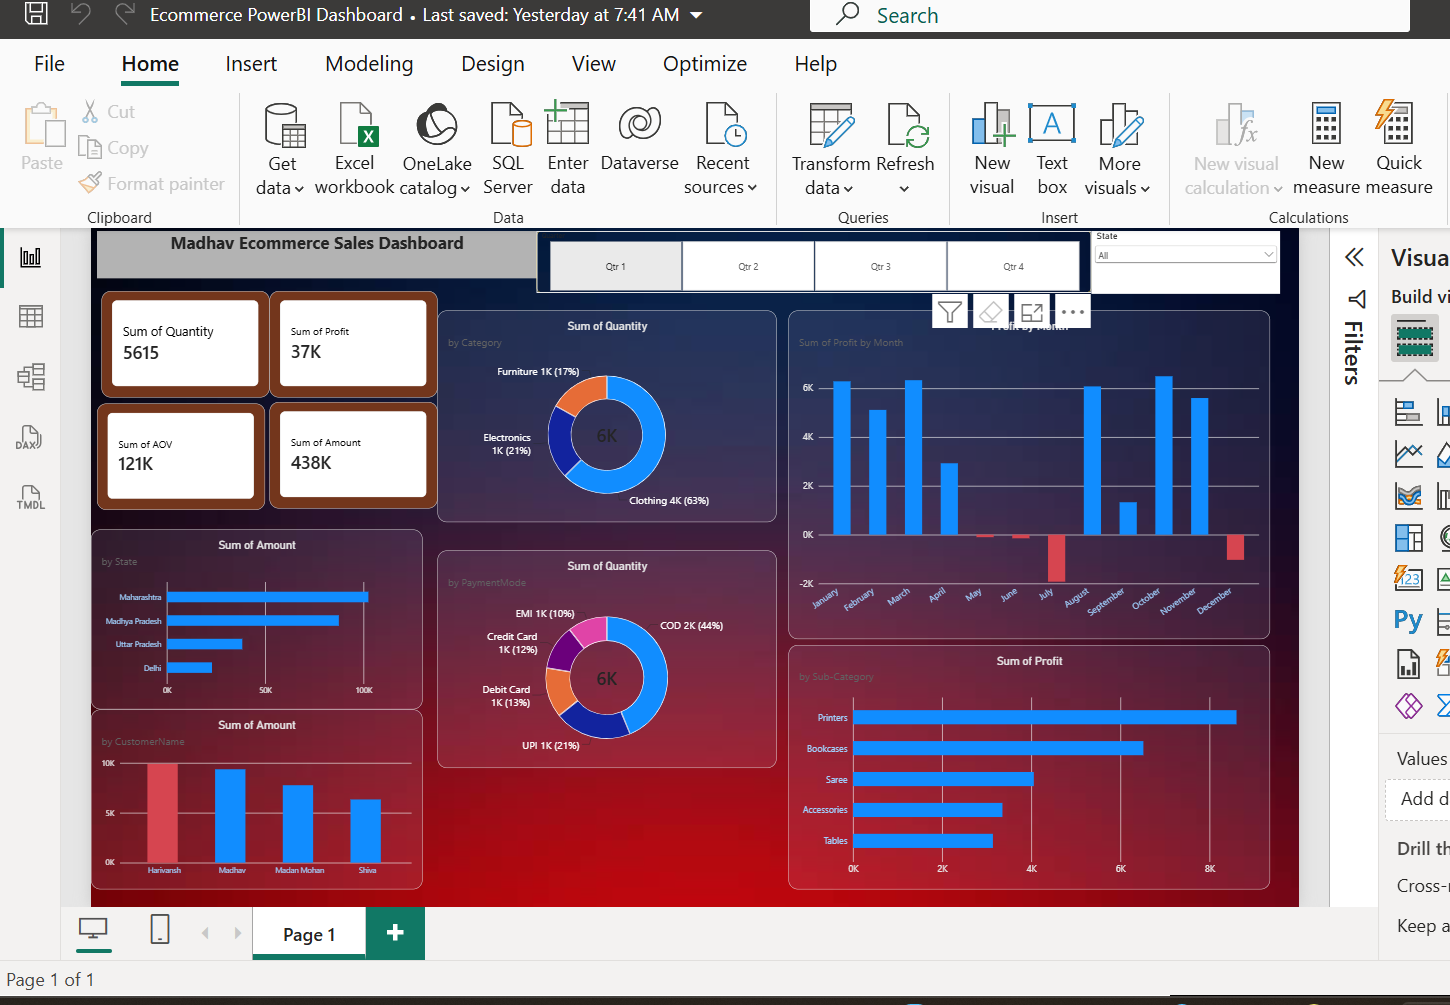

The dashboard page shown, as its layout file describes it:
{"tool":"powerbi","page":{"name":"Page 1","canvas":[1920,1080],"ordinal":0},"visuals":[{"type":"textbox","box":[9.5,5,700,75],"z":0},{"type":"columnChart","title":"Profit by Month","fields":{"Category":["Orders.Order Date.Variation.Date Hierarchy.Month"],"Y":["Sum(Details.Profit)"]},"box":[1109.5,131.2,765.9,522.5],"z":1000},{"type":"barChart","fields":{"Category":["Details.Sub-Category"],"Y":["Sum(Details.Profit)"]},"box":[1109.5,663.3,765.9,388.9],"z":2000},{"type":"donutChart","fields":{"Category":["Details.Category"],"Y":["Sum(Details.Quantity)"]},"box":[551.1,131.2,539.2,336.4],"z":3000},{"type":"donutChart","fields":{"Category":["Details.PaymentMode"],"Y":["Sum(Details.Quantity)"]},"box":[551.1,513,539.2,346],"z":4000},{"type":"cardVisual","fields":{"Data":["Sum(Details.Profit)"]},"box":[283.9,100.2,267.2,169.4],"z":5000},{"type":"cardVisual","fields":{"Data":["Sum(Details.Quantity)"]},"box":[16.7,100.2,267.2,169.4],"z":6000},{"type":"cardVisual","fields":{"Data":["Sum(Details.Average Order Value)"]},"box":[9.5,279.2,267.2,169.4],"z":7000},{"type":"cardVisual","fields":{"Data":["Sum(Details.Amount)"]},"box":[283.9,276.8,267.2,169.4],"z":8000},{"type":"barChart","fields":{"Category":["Orders.State"],"Y":["Sum(Details.Amount)"]},"box":[0,479.6,527.3,286.3],"z":9000},{"type":"columnChart","fields":{"Category":["Orders.CustomerName"],"Y":["Sum(Details.Amount)"]},"box":[0,766,527,286],"z":10000},{"type":"slicer","fields":{"Values":["Orders.Order Date.Variation.Date Hierarchy.Quarter"]},"box":[708.6,4.8,882.8,97.8],"z":10001},{"type":"slicer","fields":{"Values":["Orders.State"]},"box":[1591.4,4.8,300,100],"z":10002}]}

Visuals, with their boxes on the page's 1920x1080 design canvas (x1, y1, x2, y2). These are canvas units, not pixel positions in the 1450x1005 screenshot, which may show the page scaled, cropped or inside an application window:
textbox: BBox(10, 5, 710, 80)
"Profit by Month" columnChart: BBox(1110, 131, 1875, 654)
barChart - Details.Sub-Category x Sum(Details.Profit): BBox(1110, 663, 1875, 1052)
donutChart - Details.Category x Sum(Details.Quantity): BBox(551, 131, 1090, 468)
donutChart - Details.PaymentMode x Sum(Details.Quantity): BBox(551, 513, 1090, 859)
cardVisual - Sum(Details.Profit): BBox(284, 100, 551, 270)
cardVisual - Sum(Details.Quantity): BBox(17, 100, 284, 270)
cardVisual - Sum(Details.Average Order Value): BBox(10, 279, 277, 449)
cardVisual - Sum(Details.Amount): BBox(284, 277, 551, 446)
barChart - Orders.State x Sum(Details.Amount): BBox(0, 480, 527, 766)
columnChart - Orders.CustomerName x Sum(Details.Amount): BBox(0, 766, 527, 1052)
slicer - Orders.Order Date.Variation.Date Hierarchy.Quarter: BBox(709, 5, 1591, 103)
slicer - Orders.State: BBox(1591, 5, 1891, 105)
